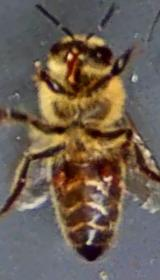varroa_mite: (87, 157, 130, 187), (46, 162, 66, 188)
